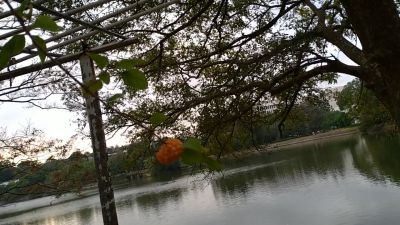eggs: (154, 138, 186, 166)
